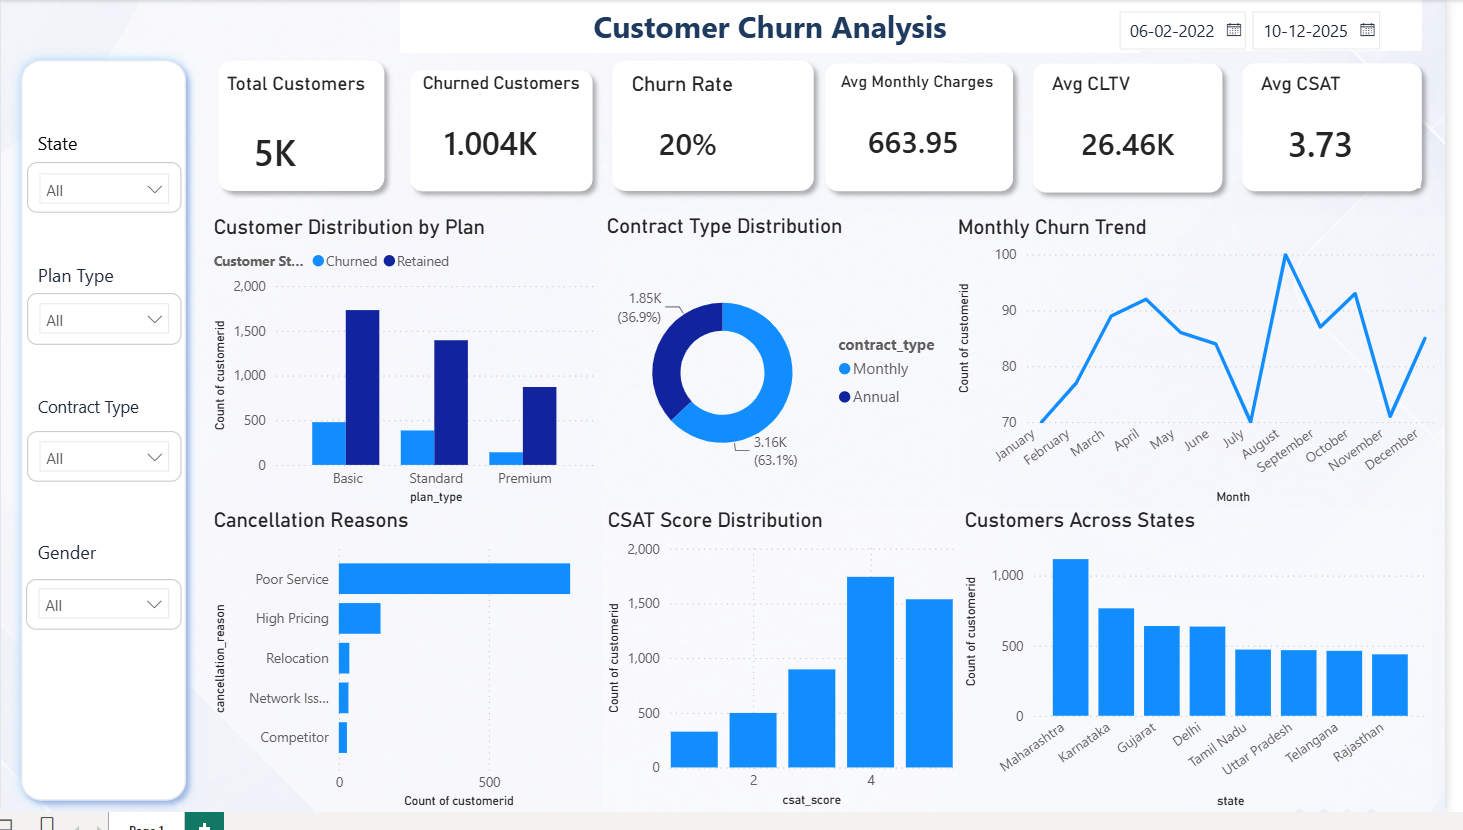

What the dashboard file says about the page in this screenshot:
{"tool":"powerbi","page":{"name":"Page 1","canvas":[1280,720],"ordinal":0},"visuals":[{"type":"shape","box":[8.4,44.6,164.1,674.4],"z":0},{"type":"shape","box":[1091.8,47.1,177.3,131.5],"z":1000},{"type":"shape","box":[906,47.1,185.8,132.7],"z":2000},{"type":"shape","box":[721.5,47.1,184.6,131.5],"z":3000},{"type":"shape","box":[533.2,44.6,196.6,133.9],"z":4000},{"type":"shape","box":[353.5,53.1,179.8,125.5],"z":5000},{"type":"shape","box":[183.4,44.6,165.3,133.9],"z":6000},{"type":"textbox","box":[353.5,0,656.3,47.1],"z":7000},{"type":"cardVisual","title":"Churned Customers","fields":{"Data":["churn data.Churned Customers"]},"box":[369.2,63.9,149.6,103.8],"z":8000},{"type":"cardVisual","title":"Churn Rate","fields":{"Data":["churn data.Churn Rate"]},"box":[553.8,63.9,158,103.8],"z":9000},{"type":"cardVisual","title":"Avg Monthly Charges","fields":{"Data":["Avg(churn data.monthly_charges)"]},"box":[739.5,63.9,150.8,103.8],"z":10000},{"type":"cardVisual","title":"Avg CLTV","fields":{"Data":["Avg(churn data.cltv)"]},"box":[926.5,63.9,146,103.8],"z":11000},{"type":"cardVisual","title":"Avg CSAT","fields":{"Data":["Avg(churn data.csat_score)"]},"box":[1112.3,63.9,147.2,102.5],"z":12000},{"type":"clusteredColumnChart","title":"Customer Distribution by Plan","fields":{"Category":["churn data.plan_type"],"Y":["Count(churn data.customerid)"],"Series":["churn data.Customer Status"]},"box":[183.4,190.6,348.7,260.6],"z":13000},{"type":"donutChart","title":"Contract Type Distribution","fields":{"Category":["churn data.contract_type"],"Y":["Count(churn data.customerid)"]},"box":[532,189.4,317.3,260.6],"z":14000},{"type":"lineChart","title":"Monthly Churn Trend","fields":{"Category":["churn data.subscription_start_date.Variation.Date Hierarchy.Month"],"Y":["Count(churn data.customerid)"]},"box":[843.3,190.6,436.7,260.6],"z":15000},{"type":"barChart","title":"Cancellation Reasons","fields":{"Category":["churn data.cancellation_reason"],"Y":["Count(churn data.customerid)"]},"box":[183.4,450,343.8,270.2],"z":16000},{"type":"clusteredColumnChart","title":"CSAT Score Distribution","fields":{"Category":["churn data.csat_score"],"Y":["Count(churn data.customerid)"]},"box":[533.2,450,316.1,269],"z":17000},{"type":"clusteredColumnChart","title":"Customers Across States","fields":{"Category":["churn data.state"],"Y":["Count(churn data.customerid)"]},"box":[849.3,450,419.8,270.2],"z":18000},{"type":"textbox","box":[27.7,111,62.7,32.6],"z":19000},{"type":"slicer","fields":{"Values":["churn data.state"]},"box":[22.9,143.6,137,45],"z":20000},{"type":"slicer","fields":{"Values":["churn data.plan_type"]},"box":[22.9,259.4,137,45.8],"z":21000},{"type":"textbox","box":[27.7,228,97.7,31.4],"z":22000},{"type":"textbox","box":[27.7,345,123.1,37.4],"z":23000},{"type":"slicer","fields":{"Values":["churn data.contract_type"]},"box":[22.9,382.4,137,45],"z":24000},{"type":"textbox","box":[27.5,473.8,83.8,40],"z":25000},{"type":"slicer","fields":{"Values":["churn data.gender"]},"box":[22.5,513.8,137.5,45],"z":26000},{"type":"slicer","fields":{"Values":["churn data.renewal_date"]},"box":[963.9,0,296,44.6],"z":27000},{"type":"cardVisual","title":"Total Customers","fields":{"Data":["CountNonNull(churn data.customerid)"]},"box":[195.4,63.9,141.2,102.5],"z":28000}]}

Visuals, with their boxes in screenshot pixels (x1, y1, x2, y2), scaled from the page's 1280x720 canvas onto the 1463x830 screenshot:
shape: left=10, top=51, right=197, bottom=829
shape: left=1248, top=54, right=1451, bottom=206
shape: left=1036, top=54, right=1248, bottom=207
shape: left=825, top=54, right=1036, bottom=206
shape: left=609, top=51, right=834, bottom=206
shape: left=404, top=61, right=610, bottom=206
shape: left=210, top=51, right=399, bottom=206
textbox: left=404, top=0, right=1154, bottom=54
"Churned Customers" cardVisual: left=422, top=74, right=593, bottom=193
"Churn Rate" cardVisual: left=633, top=74, right=814, bottom=193
"Avg Monthly Charges" cardVisual: left=845, top=74, right=1018, bottom=193
"Avg CLTV" cardVisual: left=1059, top=74, right=1226, bottom=193
"Avg CSAT" cardVisual: left=1271, top=74, right=1440, bottom=192
"Customer Distribution by Plan" clusteredColumnChart: left=210, top=220, right=608, bottom=520
"Contract Type Distribution" donutChart: left=608, top=218, right=971, bottom=519
"Monthly Churn Trend" lineChart: left=964, top=220, right=1462, bottom=520
"Cancellation Reasons" barChart: left=210, top=519, right=603, bottom=829
"CSAT Score Distribution" clusteredColumnChart: left=609, top=519, right=971, bottom=829
"Customers Across States" clusteredColumnChart: left=971, top=519, right=1451, bottom=829
textbox: left=32, top=128, right=103, bottom=166
slicer - churn data.state: left=26, top=166, right=183, bottom=217
slicer - churn data.plan_type: left=26, top=299, right=183, bottom=352
textbox: left=32, top=263, right=143, bottom=299
textbox: left=32, top=398, right=172, bottom=441
slicer - churn data.contract_type: left=26, top=441, right=183, bottom=493
textbox: left=31, top=546, right=127, bottom=592
slicer - churn data.gender: left=26, top=592, right=183, bottom=644
slicer - churn data.renewal_date: left=1102, top=0, right=1440, bottom=51
"Total Customers" cardVisual: left=223, top=74, right=385, bottom=192
